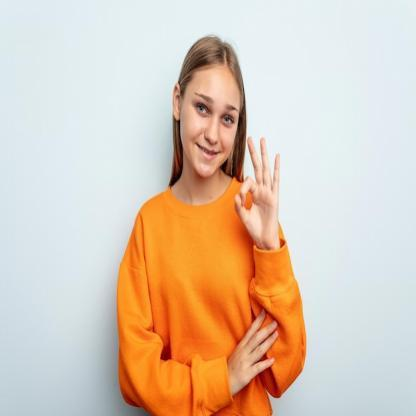ok: (233, 134, 281, 250)
